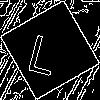L: (25, 25, 64, 76)
